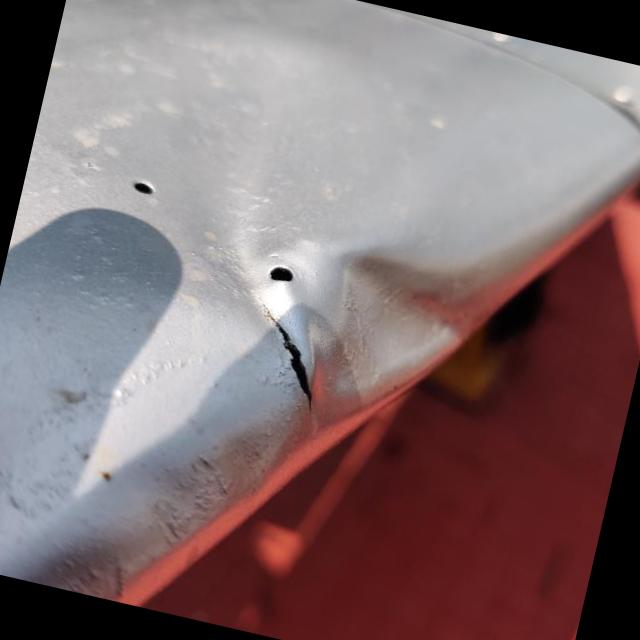Crack: (258, 309, 309, 410)
Dent: (278, 237, 521, 427)
